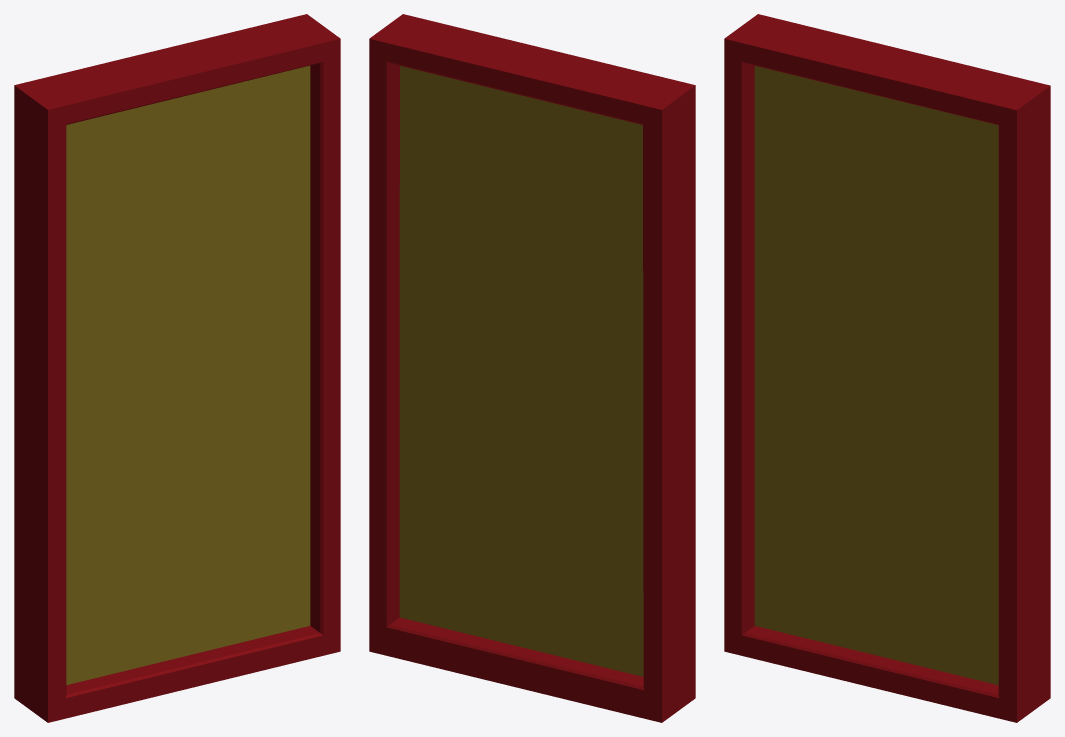
File: SM_MH_01_Plaster_Wall_Half_V_01.fbx
The picture shows the model from 3 angles, left to right: view 1: azimuth 30°, elevation 25°; view 2: azimuth 150°, elevation 25°; view 3: azimuth 330°, elevation 25°; orthographic projection.
Parts seen in each view (by area): view 1: SM_MH_01_Plaster_Wall_Half_V_01_LOD0; view 2: SM_MH_01_Plaster_Wall_Half_V_01_LOD0; view 3: SM_MH_01_Plaster_Wall_Half_V_01_LOD0.
Boxes of the visible parts, x1,y1,x2,y2 form: SM_MH_01_Plaster_Wall_Half_V_01_LOD0: [14, 14, 340, 722]; SM_MH_01_Plaster_Wall_Half_V_01_LOD0: [369, 14, 695, 722]; SM_MH_01_Plaster_Wall_Half_V_01_LOD0: [724, 14, 1050, 722].
Size of what is drawn, in the model's own units: 150 by 300 by 30.
